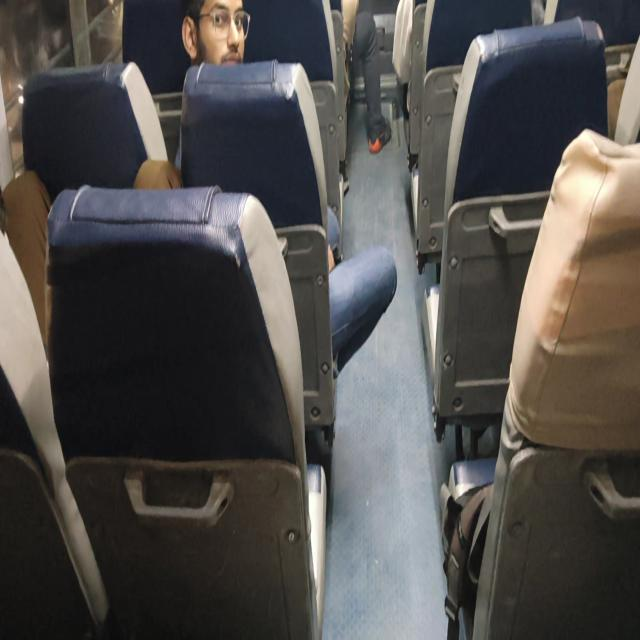person: (133, 0, 397, 376), (133, 0, 250, 190), (341, 0, 392, 154), (180, 0, 250, 66)
